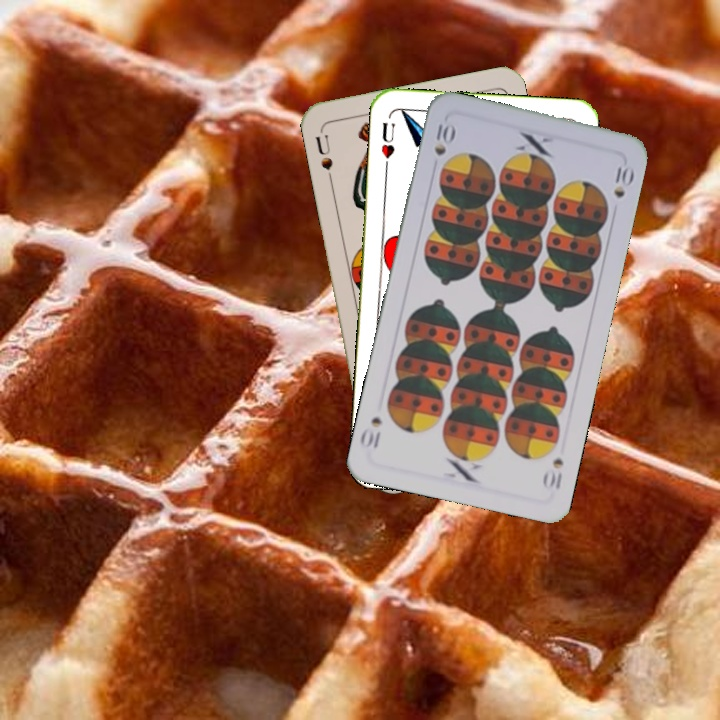HU: (377, 118, 397, 172)
S10: (430, 117, 457, 159), (539, 454, 566, 493)
SU: (311, 130, 336, 185)
